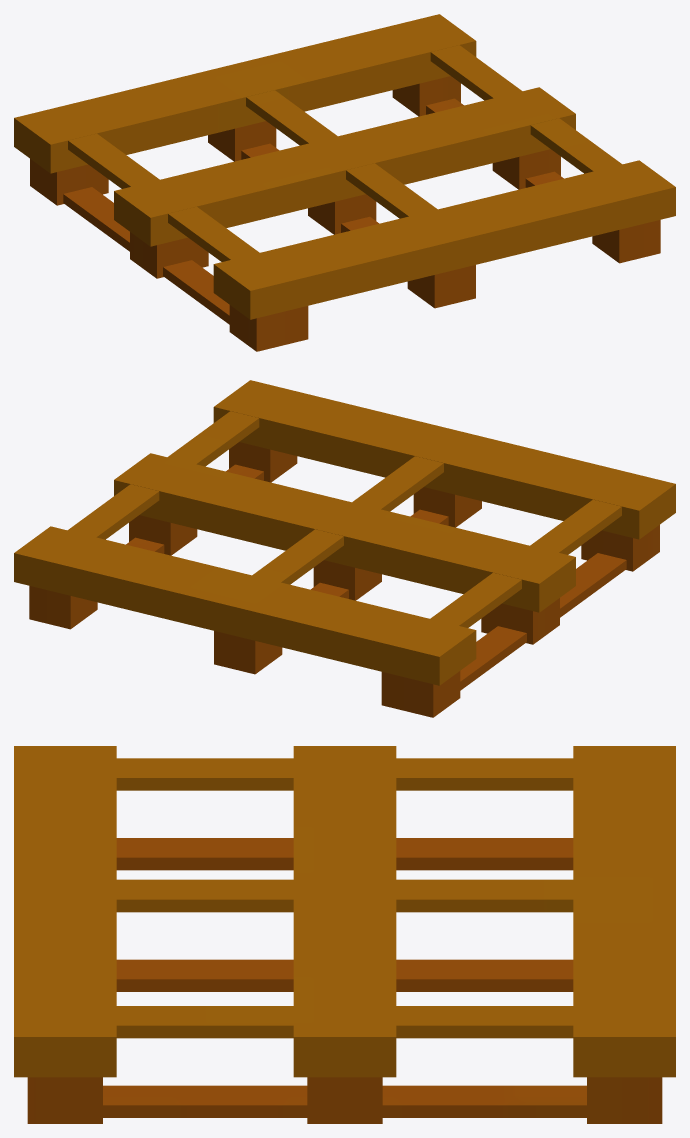
File: Palete.glb
3 views of the same model, one above another, from view 1: azimuth 30°, elevation 25°; view 2: azimuth 150°, elevation 25°; view 3: azimuth 270°, elevation 25° (orthographic). The views are drawn at different scales.
Parts seen in each view (by area): view 1: Palete; view 2: Palete; view 3: Palete.
Part boxes in pixels (left/top/right/bottom): Palete: left=14, top=14, right=675, bottom=351; Palete: left=14, top=380, right=675, bottom=717; Palete: left=14, top=746, right=675, bottom=1123.
Bounding box in the file's own units: 2 × 0.302 × 1.92.
Materials: 1 (1 with a texture image).
